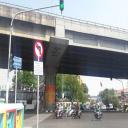NoVirarEsquerda: (32, 39, 44, 59)
